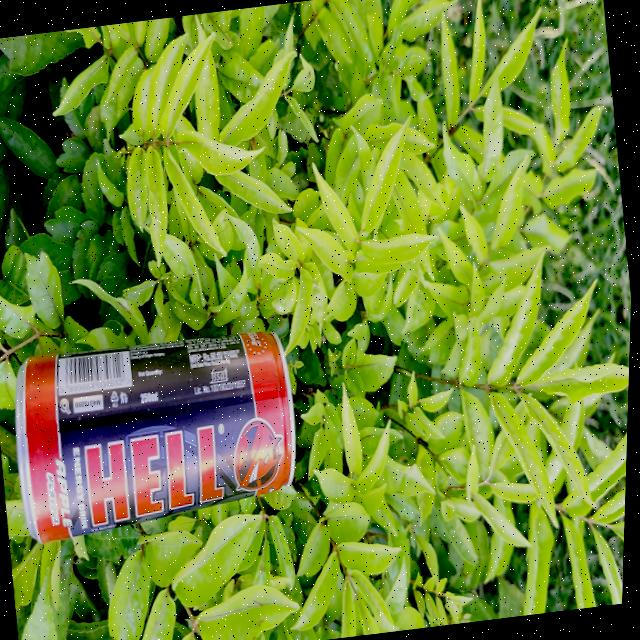Hell Apple: (0, 304, 316, 554)
